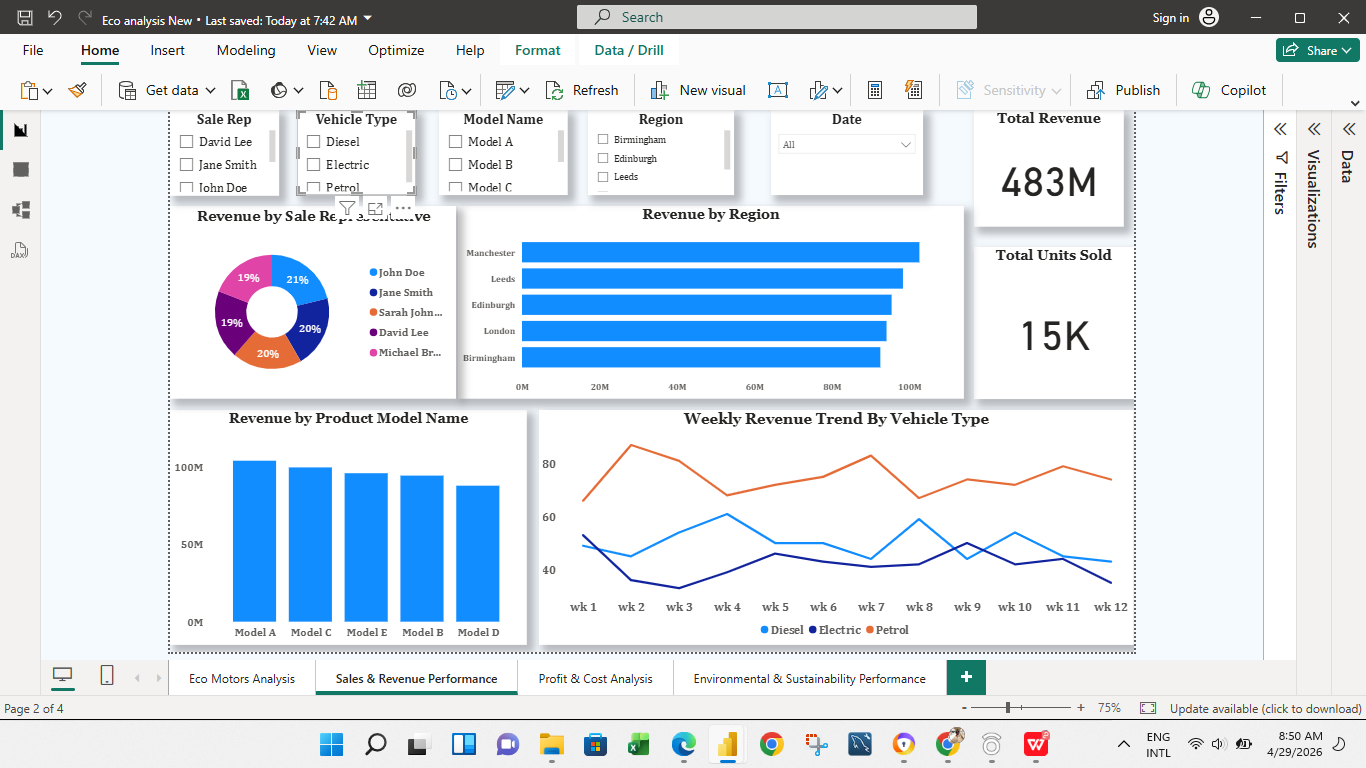

What the dashboard file says about the page in this screenshot:
{"tool":"powerbi","page":{"name":"Sales & Revenue Performance","canvas":[1280,720],"ordinal":1},"visuals":[{"type":"card","title":"Total Revenue","fields":{"Values":["Sales Details.Revenue"]},"box":[1068,0,199.3,155.4],"z":0},{"type":"card","title":"Total Units Sold","fields":{"Values":["Sum(Sales Details.Units Sold)"]},"box":[1068,182,212.5,201.9],"z":1000},{"type":"columnChart","title":"Revenue by Product Model Name","fields":{"Category":["Sales Details.Model Name"],"Y":["Sales Details.Revenue"]},"box":[0,398.5,474.2,312.2],"z":2000},{"type":"barChart","fields":{"Y":["Sales Details.Revenue"],"Category":["Sales Details.Region"]},"box":[382.6,127.5,672.2,256.4],"z":3000},{"type":"lineChart","title":" Weekly Revenue Trend By Vehicle Type","fields":{"Y":["CountNonNull(Order Details.OD.Revenue)"],"Series":["Order Details.Vehicle Type"],"Category":["Order Details.week"]},"box":[490.2,398.5,790.4,312.2],"z":4000},{"type":"slicer","title":"Model Name","fields":{"Values":["Order Details.Model Name"]},"box":[357.3,0,171.4,112.9],"z":5000},{"type":"slicer","title":"Vehicle Type","fields":{"Values":["Order Details.Vehicle Type"]},"box":[168.7,0,158.1,112.9],"z":6000},{"type":"slicer","title":"Date","fields":{"Values":["Date Table.Date"]},"box":[798.4,0,201.9,112.9],"z":7000},{"type":"slicer","title":"Region","fields":{"Values":["Regione.Region"]},"box":[555.3,0,193.9,112.9],"z":8000},{"type":"donutChart","fields":{"Category":["Sales Details.Sale Representative"],"Y":["Sales Details.Revenue"]},"box":[0,127.5,380,256.2],"z":9000},{"type":"slicer","title":"Sale Rep","fields":{"Values":["Sales Details.Sale Representative"]},"box":[0,0,144.6,113.5],"z":10000}]}

Visuals, with their boxes on the page's 1280x720 design canvas (x1, y1, x2, y2). These are canvas units, not pixel positions in the 1366x768 screenshot, which may show the page scaled, cropped or inside an application window:
"Total Revenue" card: l=1068, t=0, r=1267, b=155
"Total Units Sold" card: l=1068, t=182, r=1280, b=384
"Revenue by Product Model Name" columnChart: l=0, t=398, r=474, b=711
barChart - Sales Details.Revenue x Sales Details.Region: l=383, t=128, r=1055, b=384
" Weekly Revenue Trend By Vehicle Type" lineChart: l=490, t=398, r=1281, b=711
"Model Name" slicer: l=357, t=0, r=529, b=113
"Vehicle Type" slicer: l=169, t=0, r=327, b=113
"Date" slicer: l=798, t=0, r=1000, b=113
"Region" slicer: l=555, t=0, r=749, b=113
donutChart - Sales Details.Sale Representative x Sales Details.Revenue: l=0, t=128, r=380, b=384
"Sale Rep" slicer: l=0, t=0, r=145, b=114
